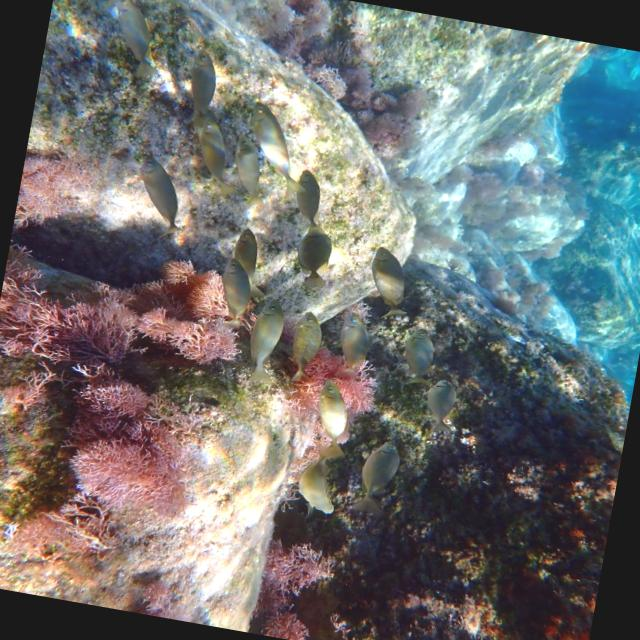Sokar Baligi: (122, 148, 206, 243), (342, 428, 408, 524), (237, 292, 294, 390), (356, 237, 418, 325), (414, 368, 464, 443)
